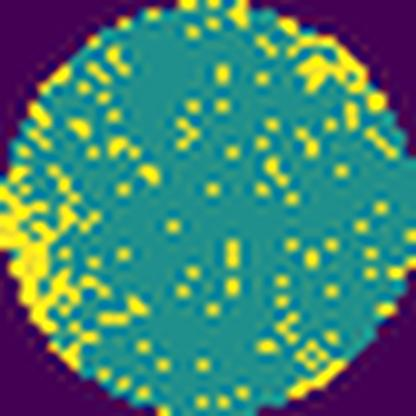Edge-Loc: (0, 182, 85, 336), (286, 23, 368, 95), (286, 351, 348, 398)
